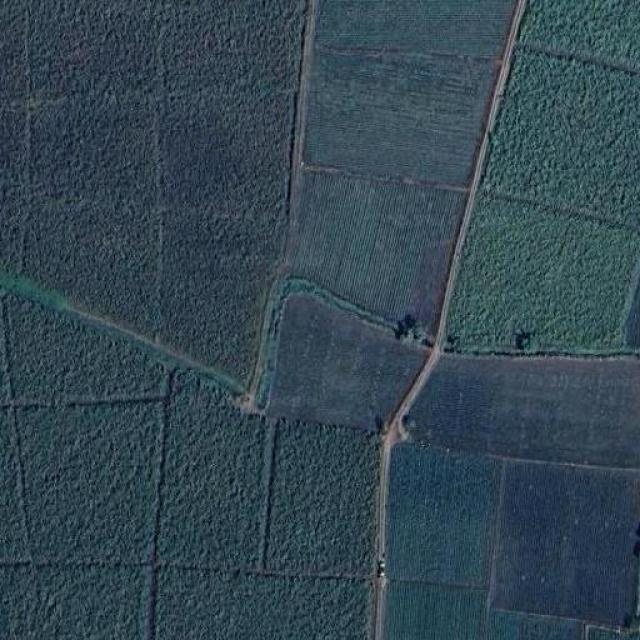land-Sx1C: (0, 0, 305, 384), (482, 49, 640, 231), (295, 171, 464, 339), (445, 201, 628, 351), (409, 354, 640, 467), (306, 52, 494, 179), (270, 288, 434, 430), (494, 464, 640, 623), (154, 371, 273, 566), (19, 406, 158, 562), (266, 423, 381, 580), (10, 296, 167, 408), (157, 568, 370, 640), (388, 444, 494, 586), (0, 564, 156, 640), (316, 3, 518, 61), (520, 0, 640, 67), (384, 582, 484, 640), (0, 411, 25, 561), (489, 612, 584, 640), (600, 631, 640, 639)
